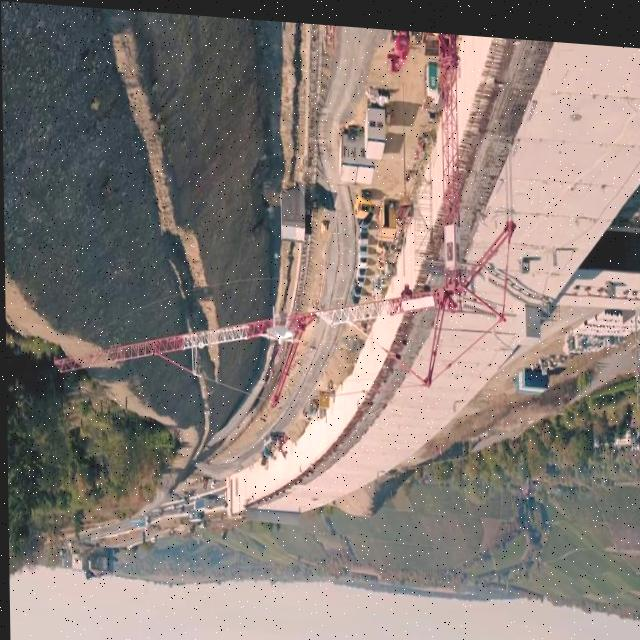drone: (256, 299, 303, 343)
